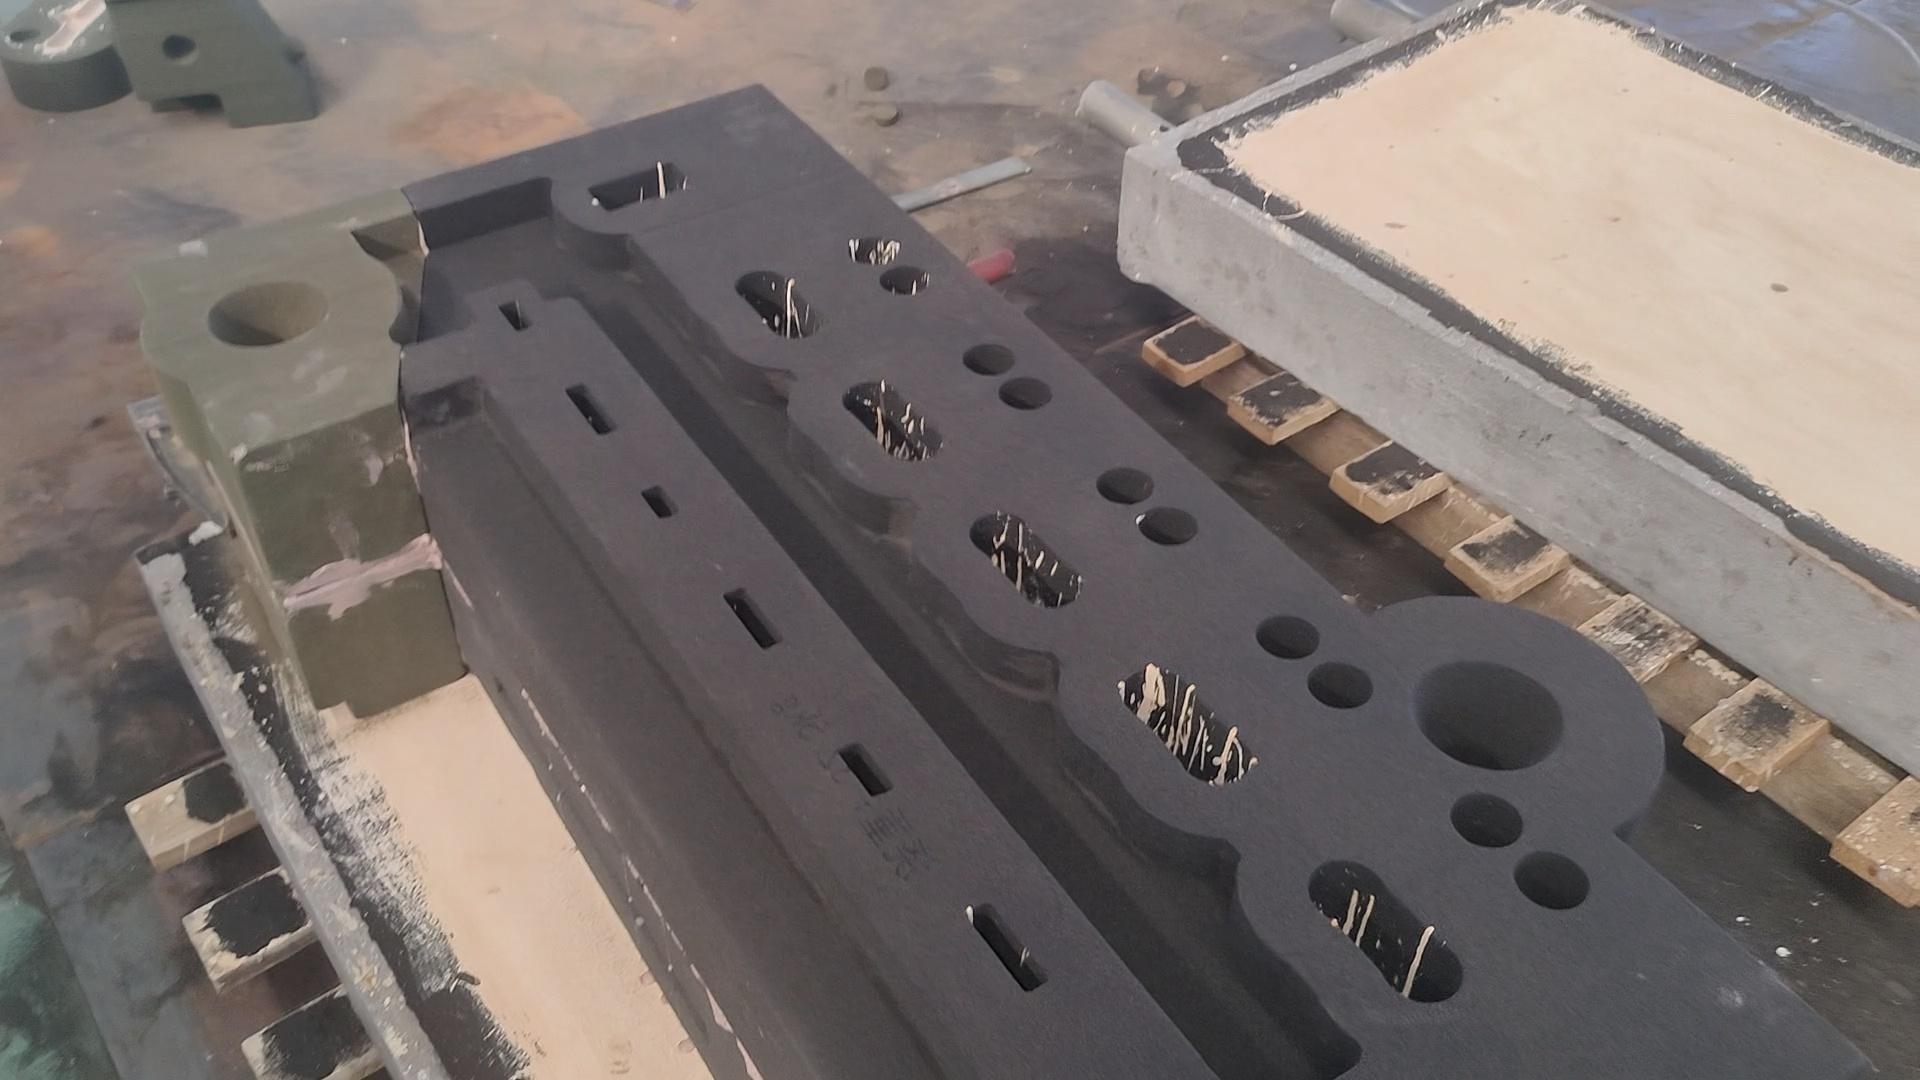pouring hole: (1414, 659, 1564, 770), (208, 280, 331, 345)
